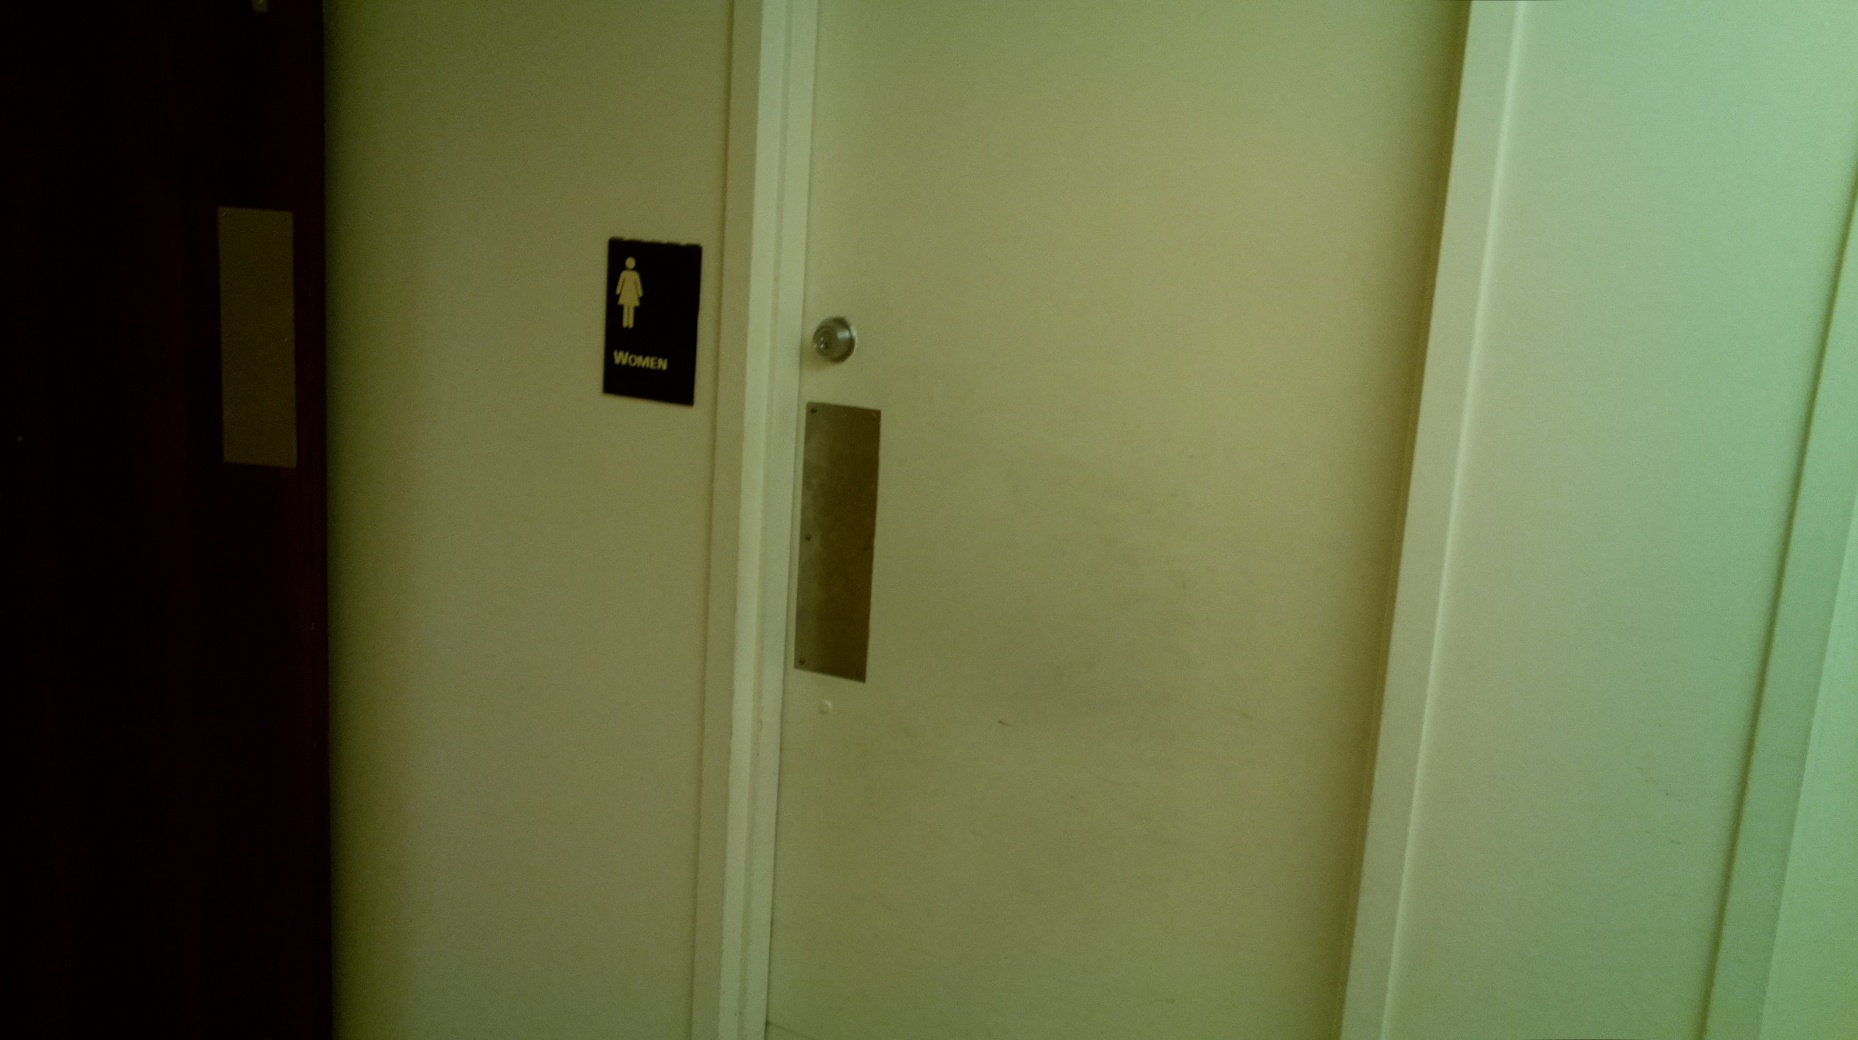bathroom sign: (598, 231, 704, 412)
